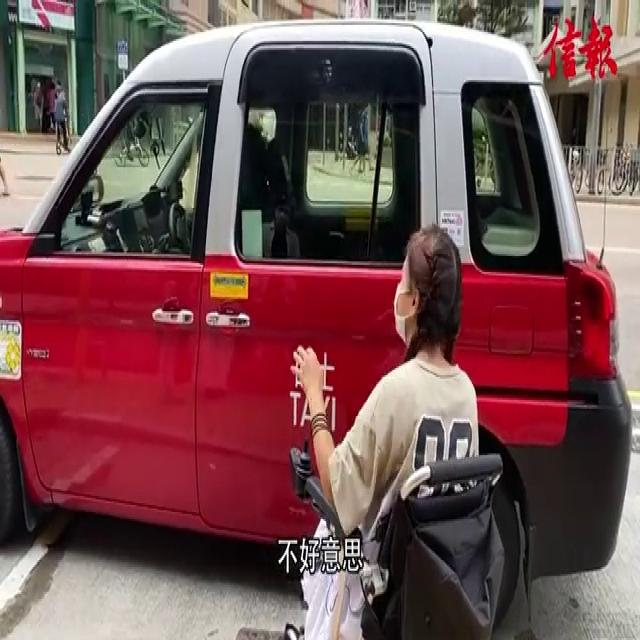wheelchairs: (276, 419, 548, 640)
